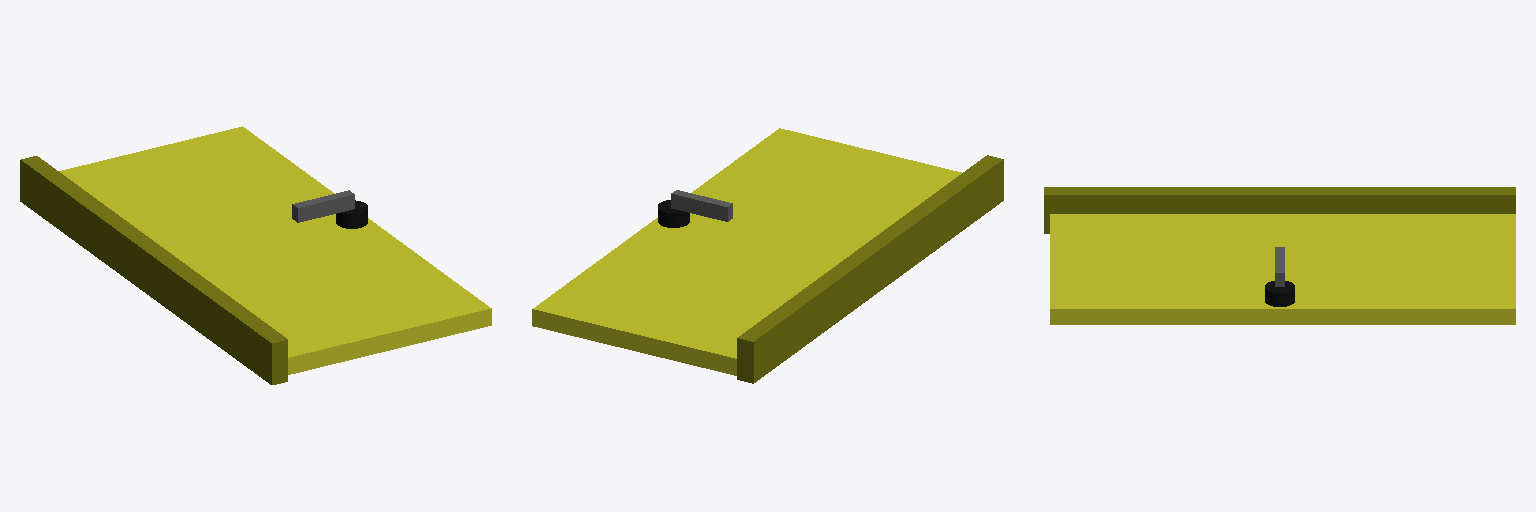
URDF robot description (door):
<robot name="door">
  
  <link name="door_pole">
    <visual>
      <origin xyz="0 0.46 0" rpy="0 0 0"/>
      <geometry>
        <box size="0.035 0.92 0.085"/>
      </geometry>
      <material name="dark_yellow">
        <color rgba="0.5 0.5 0.1 1"/>
      </material>
    </visual>	
    <collision>
      <origin xyz="0 0.46 0" rpy="0 0 0"/>
      <geometry>
        <box size="0.035 0.92 0.085"/>
      </geometry>
    </collision>
  </link>

  <link name="door_panel">
    <visual>
      <origin xyz="0.2175 0.465 -0.0175" rpy="0 0 0"/>
      <geometry>
        <box size="0.435 0.91 0.035"/>
      </geometry>
      <material name="b">
        <color rgba="0.8 0.8 0.2 1"/>
      </material>
    </visual>	
    <collision>
      <origin xyz="0.2175 0.465 -0.0175" rpy="0 0 0"/>
      <geometry>
        <box size="0.435 0.91 0.035"/>
      </geometry>
    </collision>
  </link>

  <link name="door_handle_axel">
    <visual>
      <origin rpy="0 0 1"/>
      <geometry>
        <cylinder radius="0.03" length="0.03"/>
      </geometry>
      <material name="black">
        <color rgba="0.1 0.1 0.1 1.0"/>
      </material>
    </visual>	
    <collision>
      <origin rpy="0 0 1"/>
      <geometry>
        <cylinder radius="0.03" length="0.03"/>
      </geometry>
    </collision>
  </link>

  <link name="door_handle">
    <visual>
      <origin xyz="-0.06 0 0"/>
      <geometry>
        <box size="0.12 0.02 0.03"/>
      </geometry>
      <material name="silver">
        <color rgba="0.4 0.4 0.4 1"/>
      </material>
    </visual>
    <collision>
      <origin xyz="-0.06 0 0"/>
      <geometry>
        <box size="0.12 0.02 0.03"/>
      </geometry>
    </collision>
  </link>

  <joint name="door_panel_pole" type="revolute">
    <parent link="door_pole"/>
    <child link="door_panel"/>
    <origin xyz="0.0175 0 0"/>
    <axis xyz="0 1 0"/>
    <limit lower="-1.57" upper="0" effort="100" velocity="3"/>
  </joint>
  
  <joint name="door_handle_axel_panel" type="fixed">
    <parent link="door_panel"/>
    <child link="door_handle_axel"/>
    <origin xyz="0.40 0.46 0.01575"/>
  </joint>

  <joint name="door_handle_axel" type="revolute">
    <parent link="door_handle_axel"/>
    <child link="door_handle"/>
    <origin xyz="0 0 0.03"/>
    <axis xyz="0 0 1"/>
    <limit lower="0" upper="1.57" effort="10" velocity="3"/>
  </joint>

</robot>

--- Facts derived from the render (not from the file) ---
The picture shows the robot from 3 angles, left to right: view 1: azimuth 30°, elevation 25°; view 2: azimuth 150°, elevation 25°; view 3: azimuth 270°, elevation 25°; orthographic projection.
Model door with 4 links and 3 joints (2 revolute, 1 fixed), rooted at door_pole, posed all joints at 0.
Visible links, largest first — view 1: door_panel, door_pole, door_handle, door_handle_axel; view 2: door_panel, door_pole, door_handle, door_handle_axel; view 3: door_panel, door_pole, door_handle_axel.
Link boxes in pixels (bbox=[...]): door_panel: bbox=[59, 126, 491, 374]; door_pole: bbox=[20, 156, 287, 384]; door_handle: bbox=[292, 190, 354, 222]; door_handle_axel: bbox=[336, 200, 367, 228]; door_panel: bbox=[532, 128, 961, 375]; door_pole: bbox=[737, 155, 1003, 383]; door_handle: bbox=[671, 190, 732, 221]; door_handle_axel: bbox=[658, 200, 689, 227]; door_panel: bbox=[1050, 214, 1515, 324]; door_pole: bbox=[1044, 187, 1515, 233]; door_handle_axel: bbox=[1265, 281, 1294, 306].
Bounding box of the posed robot: 0.47 × 0.92 × 0.1032 m (x, y, z).
Geometry: primitives only (box / cylinder / sphere), no mesh files.
